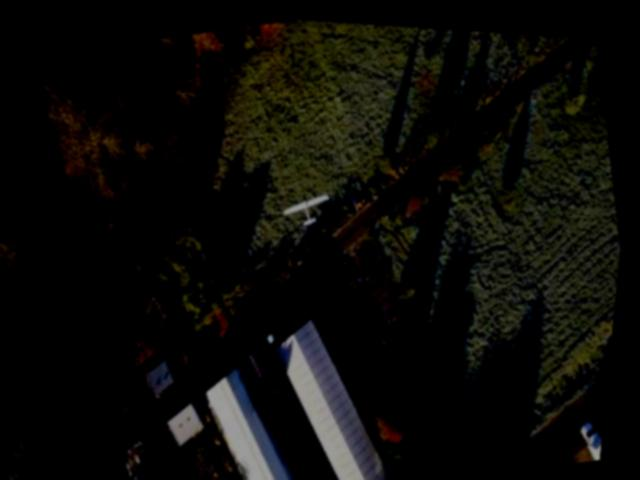uav: (275, 175, 345, 235)
